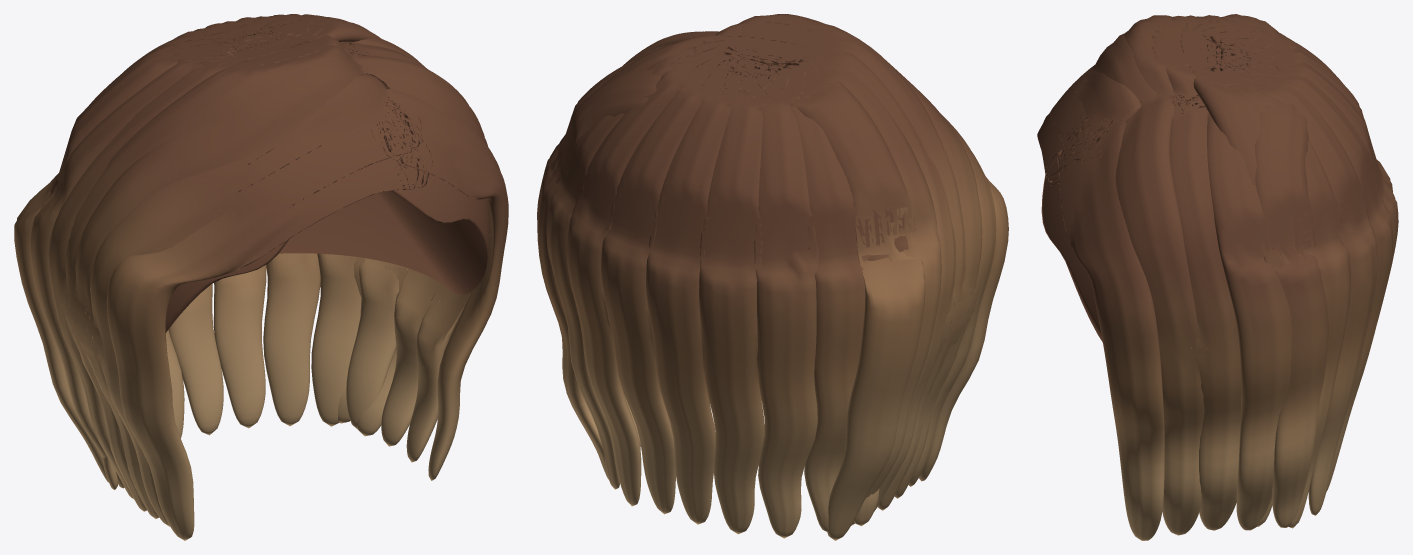
The model's file is Ombre-a8a5eb3fef03253-hair.glb.
The picture shows the model from 3 angles, left to right: view 1: azimuth 30°, elevation 25°; view 2: azimuth 150°, elevation 25°; view 3: azimuth 270°, elevation 25°; orthographic projection. The views are drawn at different scales.
Visible parts, largest first — view 1: 226 hair / Hair / sculpted 0.004, 226 hair / Hair / sculpted 1.008, 226 hair / Hair / sculpted 2.004, 226 hair / Hair / sculpted 1.007; view 2: 226 hair / Hair / sculpted 0.004, 226 hair / Hair / sculpted 2.004, 226 hair / Hair / sculpted 1.008; view 3: 226 hair / Hair / sculpted 1.008, 226 hair / Hair / sculpted 2.004, 226 hair / Hair / sculpted 0.004, 226 hair / Hair / sculpted 1.007.
Boxes of the visible parts, x1,y1,x2,y2 form: 226 hair / Hair / sculpted 0.004: [14, 14, 440, 540]; 226 hair / Hair / sculpted 1.008: [48, 16, 508, 526]; 226 hair / Hair / sculpted 2.004: [30, 14, 491, 518]; 226 hair / Hair / sculpted 1.007: [90, 173, 489, 369]; 226 hair / Hair / sculpted 0.004: [566, 14, 1008, 540]; 226 hair / Hair / sculpted 2.004: [537, 14, 982, 531]; 226 hair / Hair / sculpted 1.008: [537, 21, 996, 538]; 226 hair / Hair / sculpted 1.008: [1050, 15, 1393, 540]; 226 hair / Hair / sculpted 2.004: [1073, 15, 1398, 535]; 226 hair / Hair / sculpted 0.004: [1037, 14, 1392, 530]; 226 hair / Hair / sculpted 1.007: [1041, 175, 1102, 342].
Size of the model in its own units: 1.02 by 1.08 by 0.8091.
4 materials, 4 textured.
